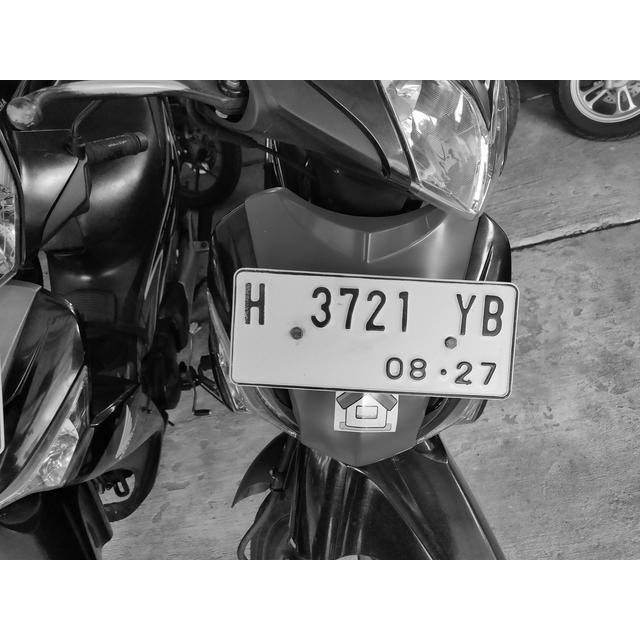license: (240, 276, 505, 389)
